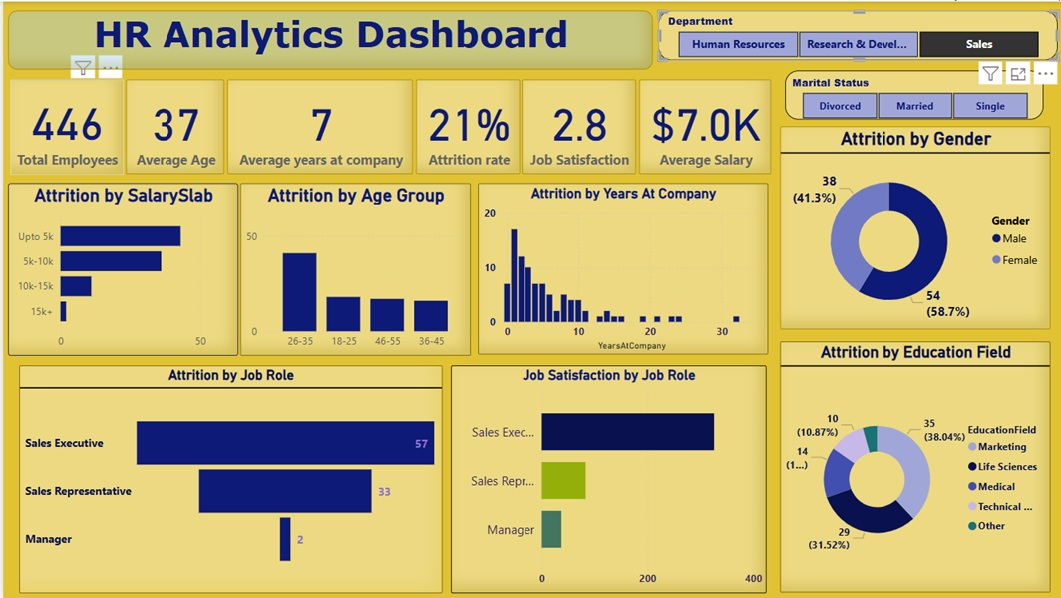

The dashboard page shown, as its layout file describes it:
{"tool":"powerbi","page":{"name":"Page 1","canvas":[1280,720],"ordinal":0},"visuals":[{"type":"card","fields":{"Values":["HR_Analytics.No. of employees"]},"box":[7.9,93.8,136.7,114.4],"z":0},{"type":"card","fields":{"Values":["HR_Analytics.Attrition rate"]},"box":[499.1,93.8,125.6,114.4],"z":1000},{"type":"card","fields":{"Values":["HR_Analytics.Average Age"]},"box":[147.8,93.8,119.2,114.4],"z":2000},{"type":"card","fields":{"Values":["HR_Analytics.Average years at company"]},"box":[271.8,93.8,224.1,114.4],"z":3000},{"type":"donutChart","title":"Attrition by Gender","fields":{"Category":["HR_Analytics.Gender"],"Y":["HR_Analytics.No. of attrition"]},"box":[939.3,151,327.4,244.8],"z":4000},{"type":"slicer","title":"Department","fields":{"Values":["HR_Analytics.Department"]},"box":[793.1,11.1,483.2,60.4],"z":5000},{"type":"clusteredBarChart","title":"Attrition by SalarySlab","fields":{"Category":["HR_Analytics.SalarySlab"],"Y":["HR_Analytics.No. of attrition"]},"box":[6.4,219.3,278.1,208.2],"z":6000},{"type":"donutChart","title":"Attrition by Education Field","fields":{"Category":["HR_Analytics.EducationField"],"Y":["HR_Analytics.No. of attrition"]},"box":[939.3,410.1,327.4,303.6],"z":7000},{"type":"columnChart","title":"Attrition by Age Group","fields":{"Y":["HR_Analytics.No. of attrition"],"Category":["HR_Analytics.AgeGroup"]},"box":[287.7,219.3,278.1,208.2],"z":8000},{"type":"barChart","title":"Job Satisfaction by Job Role","fields":{"Category":["HR_Analytics.JobRole"],"Y":["CountNonNull(HR_Analytics.JobSatisfaction)"]},"box":[542,438.7,381.5,275],"z":9000},{"type":"clusteredColumnChart","title":"Attrition by Years At Company","fields":{"Category":["HR_Analytics.YearsAtCompany"],"Y":["HR_Analytics.No. of attrition"]},"box":[573.8,219.3,351.3,206.6],"z":10000},{"type":"funnel","title":"Attrition by Job Role","fields":{"Category":["HR_Analytics.JobRole"],"Y":["HR_Analytics.No. of attrition"]},"box":[19.1,438.7,511.8,275],"z":11000},{"type":"card","fields":{"Values":["HR_Analytics.Average Salary"]},"box":[769.3,93.8,158.9,114.4],"z":12000},{"type":"card","fields":{"Values":["HR_Analytics.Avg. Job Satisfaction"]},"box":[627.8,93.8,138.3,114.4],"z":13000},{"type":"slicer","title":"Marital Status","fields":{"Values":["HR_Analytics.MaritalStatus"]},"box":[945.7,82.6,313.1,58.8],"z":14000},{"type":"textbox","box":[6.4,11.1,780.4,71.5],"z":15000}]}

Visuals, with their boxes in screenshot pixels (x1, y1, x2, y2), scaled from the page's 1280x720 canvas onto the 1061x598 screenshot:
card - HR_Analytics.No. of employees: region(7, 78, 120, 173)
card - HR_Analytics.Attrition rate: region(414, 78, 518, 173)
card - HR_Analytics.Average Age: region(123, 78, 221, 173)
card - HR_Analytics.Average years at company: region(225, 78, 411, 173)
"Attrition by Gender" donutChart: region(779, 125, 1050, 329)
"Department" slicer: region(657, 9, 1058, 59)
"Attrition by SalarySlab" clusteredBarChart: region(5, 182, 236, 355)
"Attrition by Education Field" donutChart: region(779, 341, 1050, 593)
"Attrition by Age Group" columnChart: region(238, 182, 469, 355)
"Job Satisfaction by Job Role" barChart: region(449, 364, 765, 593)
"Attrition by Years At Company" clusteredColumnChart: region(476, 182, 767, 354)
"Attrition by Job Role" funnel: region(16, 364, 440, 593)
card - HR_Analytics.Average Salary: region(638, 78, 769, 173)
card - HR_Analytics.Avg. Job Satisfaction: region(520, 78, 635, 173)
"Marital Status" slicer: region(784, 69, 1043, 117)
textbox: region(5, 9, 652, 69)
